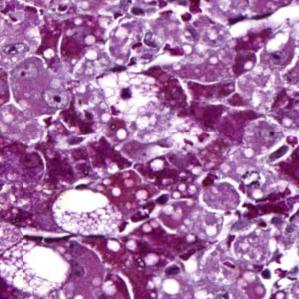ballooning: (4, 238, 73, 299), (50, 186, 122, 239), (94, 71, 164, 116)
